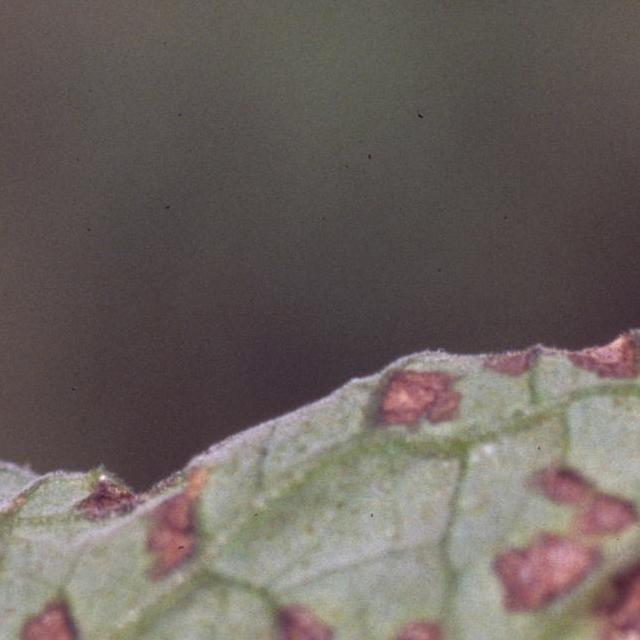Tomato leaf bacterial spot: (0, 235, 640, 640)
